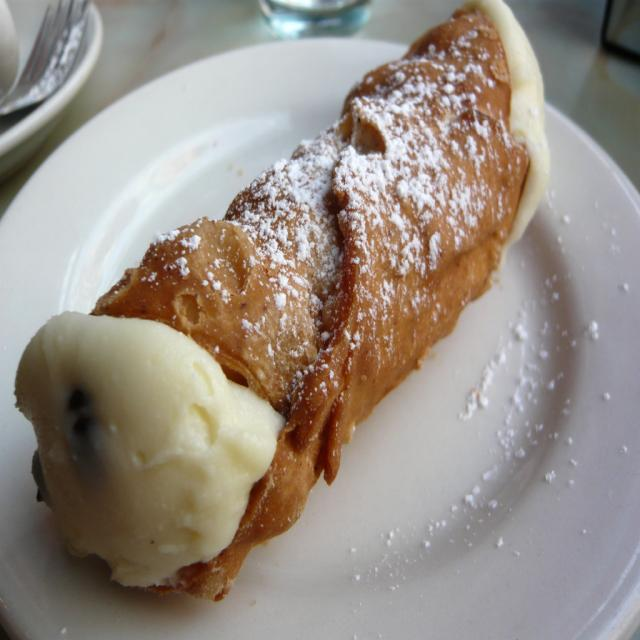non-organic waste: (17, 48, 640, 640)
